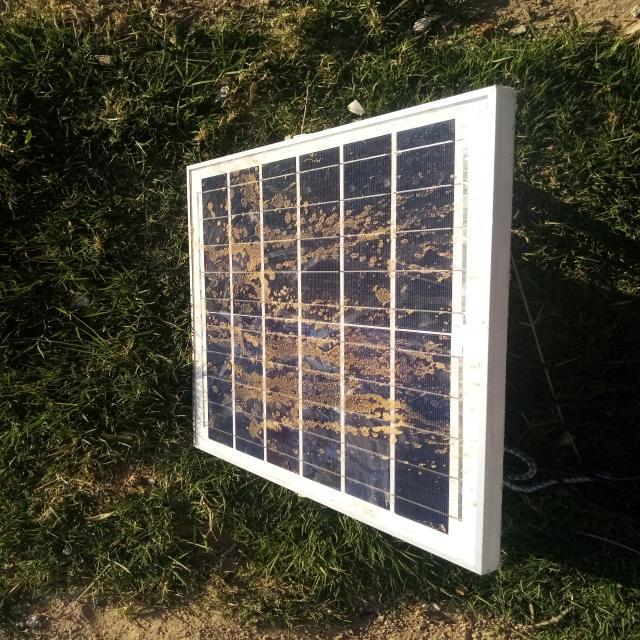faulty: (187, 92, 492, 575)
